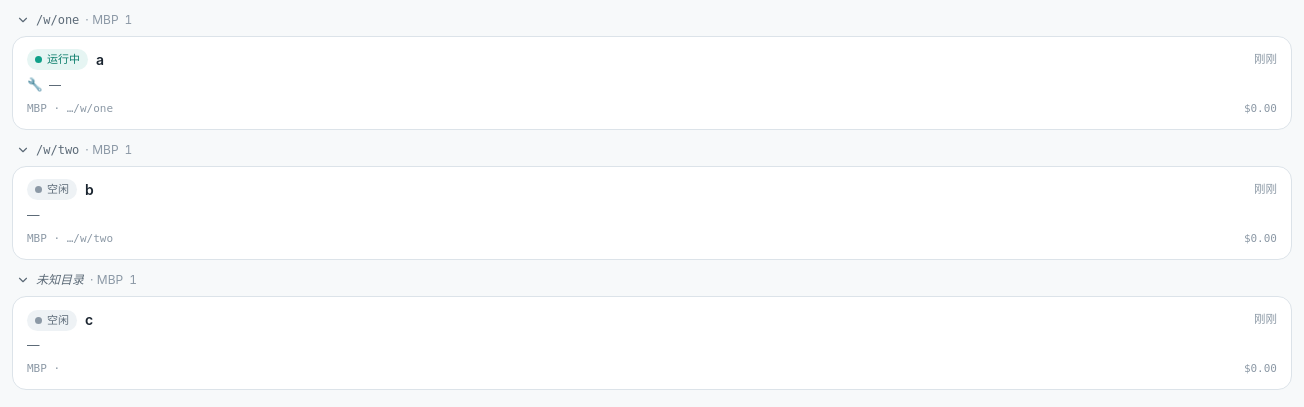
Scenario: 工作空间分组 › 点组头折叠，折叠后显示运行中角标
Click the button with test id "session-group-header" showing "/w/one · MBP 1": (58, 20) [12,12,1292,28]
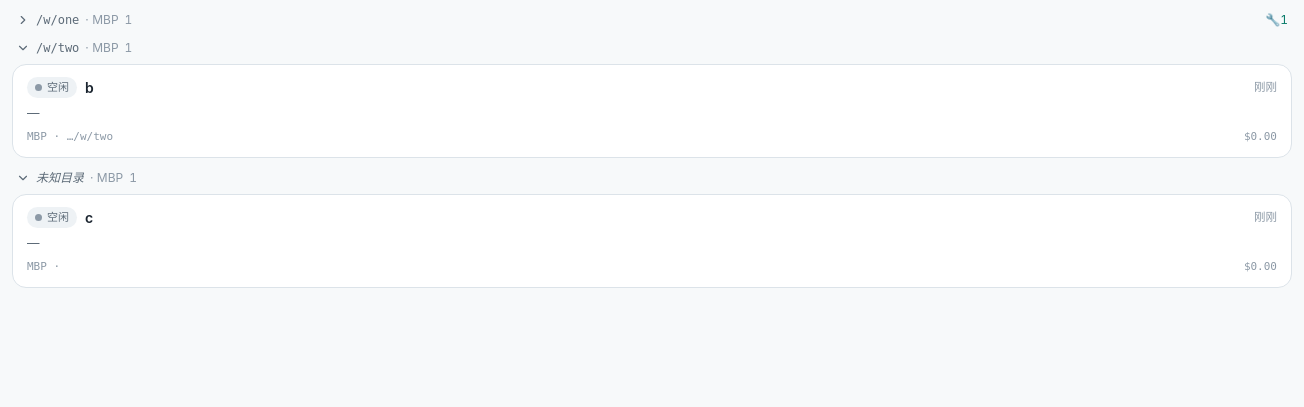
Now the element with test id "session-group-badges" reads "🔧1", box [1265,12,1288,28]
